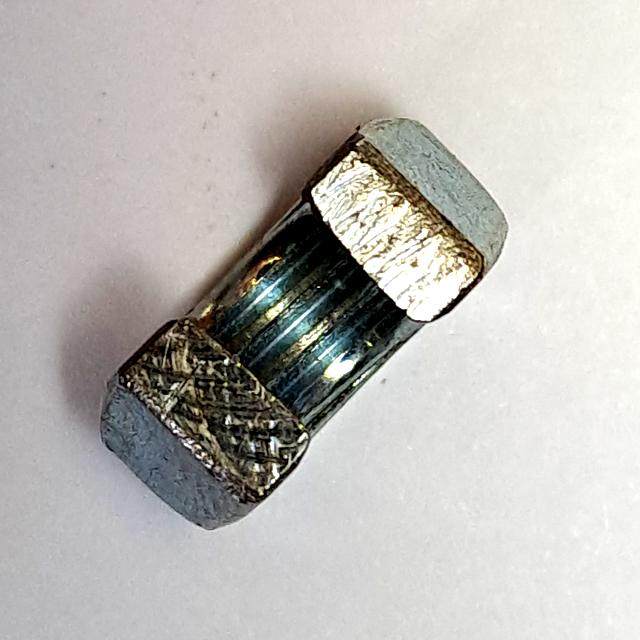Side-Fracture: (87, 102, 519, 553)
